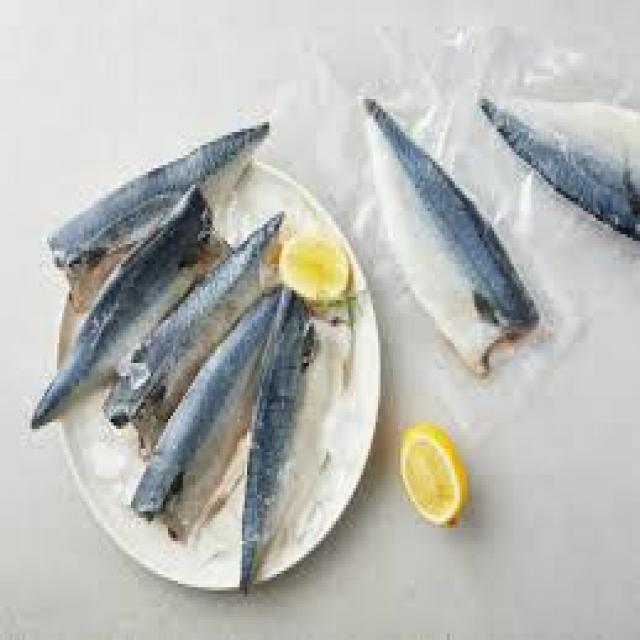fish: (366, 99, 541, 374), (32, 188, 227, 427), (133, 294, 283, 543)
